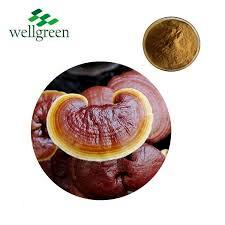Ganoderma - Fruit Body: (46, 87, 155, 163)
